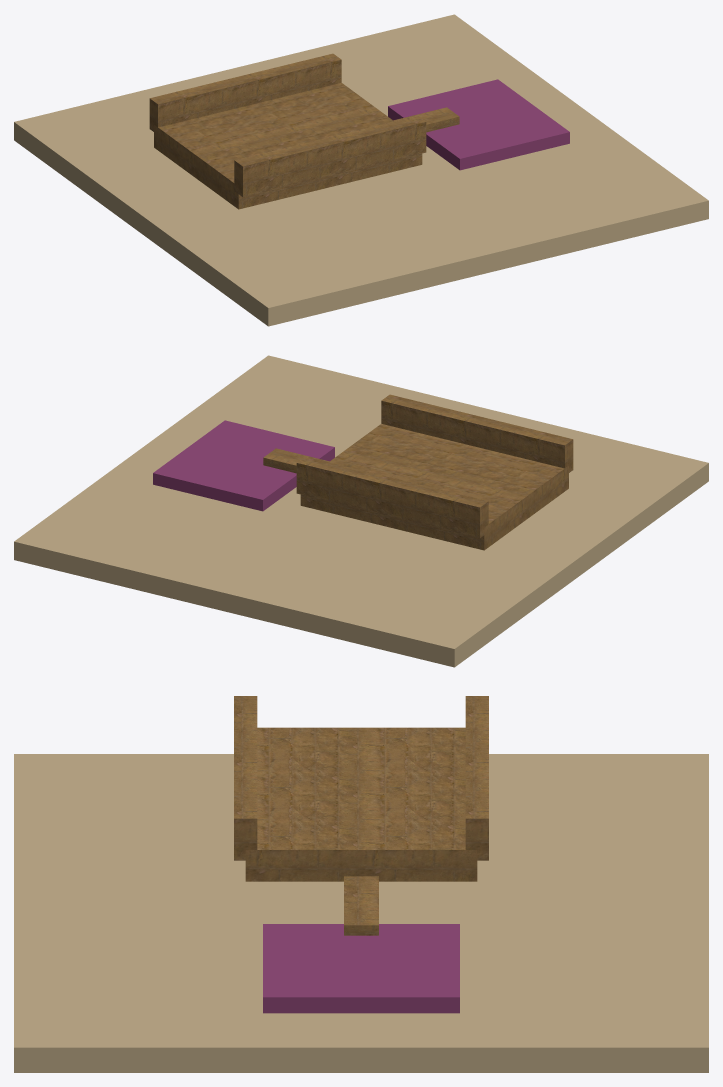
File: lagar.glb
The picture shows the model from 3 angles, top to bottom: view 1: azimuth 30°, elevation 25°; view 2: azimuth 150°, elevation 25°; view 3: azimuth 270°, elevation 25°; orthographic projection. The views are drawn at different scales.
Visible parts, largest first — view 1: Base ilustrativa, Piso de prensagem, Tanque de coleta, Borda do lagar.001, Borda do lagar, Canal; view 2: Base ilustrativa, Piso de prensagem, Tanque de coleta, Borda do lagar, Borda do lagar.001, Canal; view 3: Base ilustrativa, Piso de prensagem, Tanque de coleta, Borda do lagar, Borda do lagar.001, Canal.
Boxes of the visible parts, x1,y1,x2,y2 form: Base ilustrativa: [14, 14, 708, 326]; Piso de prensagem: [154, 83, 422, 209]; Tanque de coleta: [388, 79, 569, 170]; Borda do lagar.001: [234, 115, 426, 196]; Borda do lagar: [149, 53, 341, 131]; Canal: [393, 107, 459, 132]; Base ilustrativa: [14, 355, 708, 667]; Piso de prensagem: [300, 424, 568, 550]; Tanque de coleta: [153, 420, 334, 511]; Borda do lagar: [296, 456, 488, 537]; Borda do lagar.001: [381, 394, 573, 472]; Canal: [263, 448, 329, 473]; Base ilustrativa: [14, 754, 708, 1072]; Piso de prensagem: [245, 727, 477, 881]; Tanque de coleta: [263, 924, 459, 1013]; Borda do lagar: [465, 696, 488, 860]; Borda do lagar.001: [234, 696, 257, 860]; Canal: [344, 876, 378, 935].
Bounding box in the file's own units: 6 × 1.14 × 6.
Materials: 3 (1 with a texture image).
